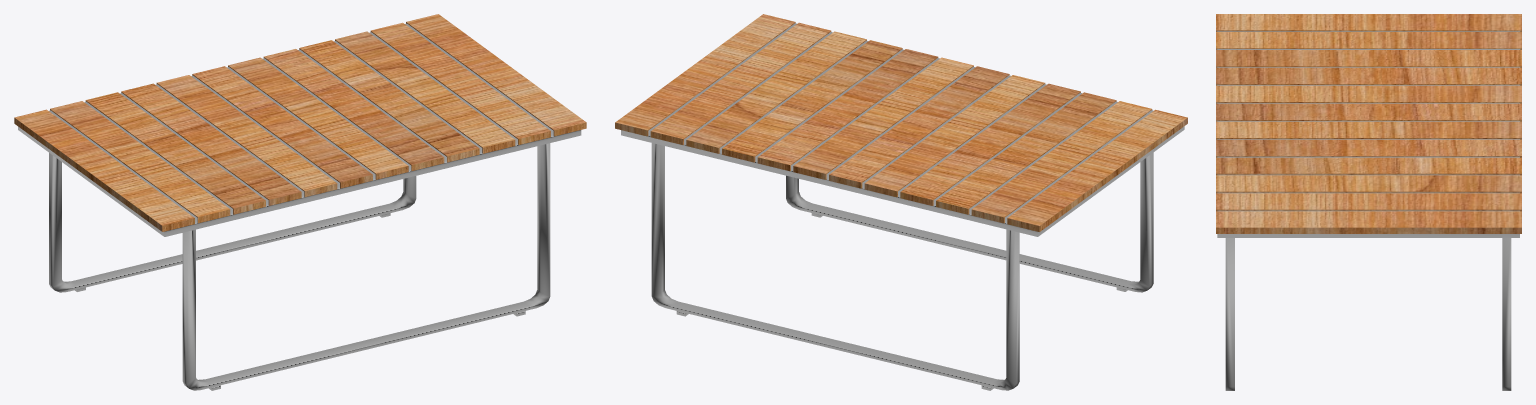
The model's file is СтолТопа.glb.
The picture shows the model from 3 angles, left to right: view 1: azimuth 30°, elevation 25°; view 2: azimuth 150°, elevation 25°; view 3: azimuth 270°, elevation 25°; orthographic projection. The views are drawn at different scales.
Parts seen in each view (by area): view 1: Куб.009, Куб.007; view 2: Куб.009, Куб.007; view 3: Куб.009, Куб.007.
Part boxes in pixels (<box>): Куб.009: <box>14,14,586,231</box>; Куб.007: <box>18,23,581,390</box>; Куб.009: <box>615,14,1187,231</box>; Куб.007: <box>621,23,1184,390</box>; Куб.009: <box>1216,14,1521,233</box>; Куб.007: <box>1217,31,1519,390</box>.
Bounding box in the file's own units: 4.47 × 1.83 × 2.7.
2 materials, 1 textured.
